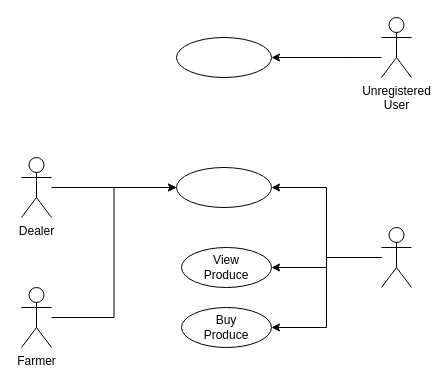
The diagram is 448 pixels wide and 386 high, and some of its shapes have lost their labels. The shapes that lost their labels are listed below. From the top down, each one's centre as x and y in pixels, then its label:
At [224,57]: "Register".
At [224,187]: "Login".
At [396,257]: "Customer".
